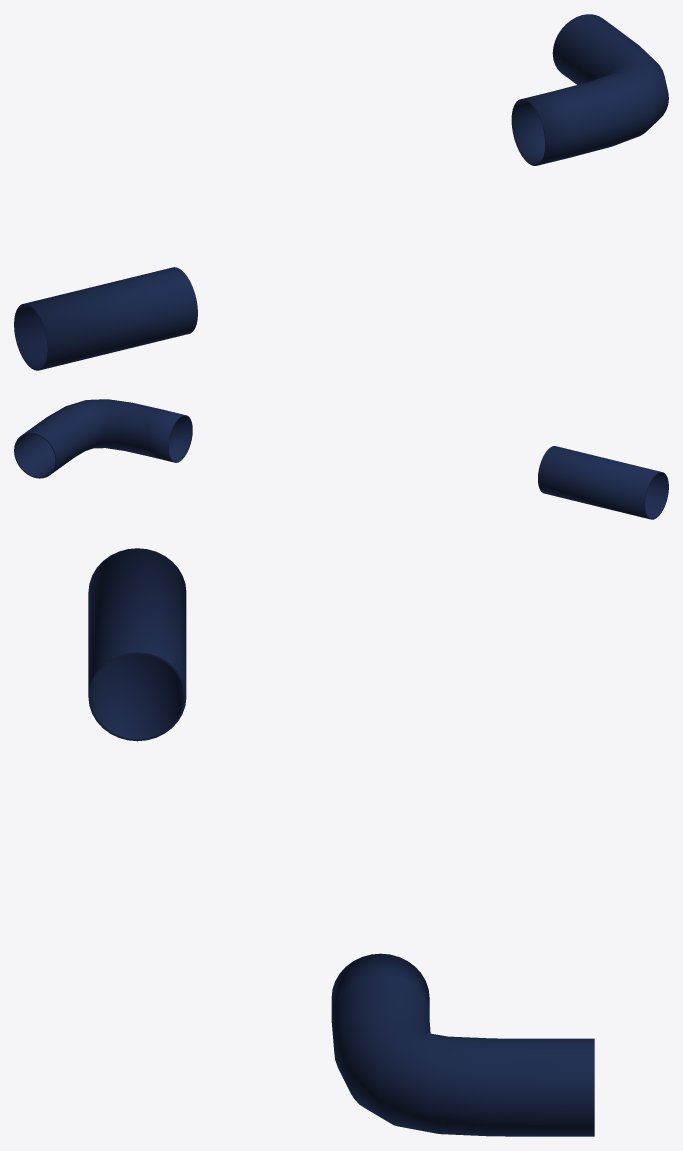
Rendered from TubeParts.fbx.
3 renders of one model, top to bottom at view 1: azimuth 30°, elevation 25°; view 2: azimuth 150°, elevation 25°; view 3: azimuth 270°, elevation 25°, orthographic. The views are drawn at different scales.
Visible parts, largest first — view 1: TubeStraight.002, TubeStraight; view 2: TubeStraight.002, TubeStraight; view 3: TubeStraight.002, TubeStraight.
Part boxes in pixels (x1=…): TubeStraight.002: x1=511, y1=14, x2=668, y2=165; TubeStraight: x1=14, y1=267, x2=197, y2=370; TubeStraight.002: x1=14, y1=399, x2=192, y2=478; TubeStraight: x1=538, y1=446, x2=668, y2=519; TubeStraight.002: x1=331, y1=953, x2=594, y2=1136; TubeStraight: x1=88, y1=548, x2=186, y2=741.
Size of the model in its own units: 11072 by 890 by 4593.
